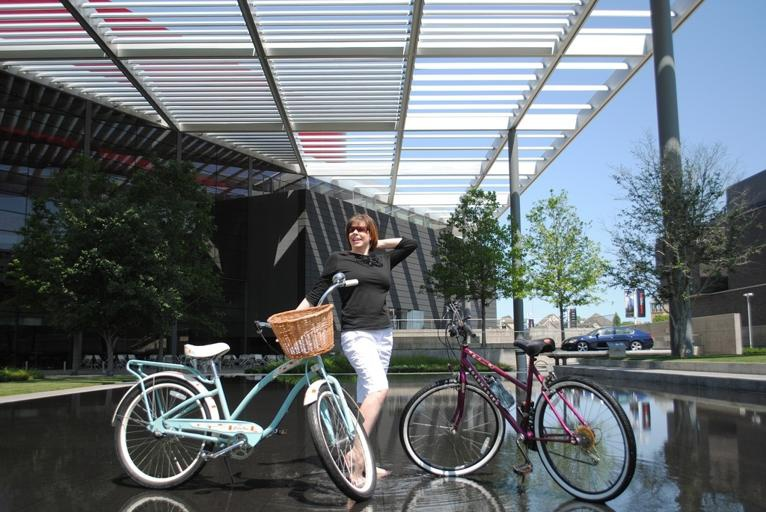non-vehicle: (110, 271, 376, 502), (398, 296, 637, 502)
